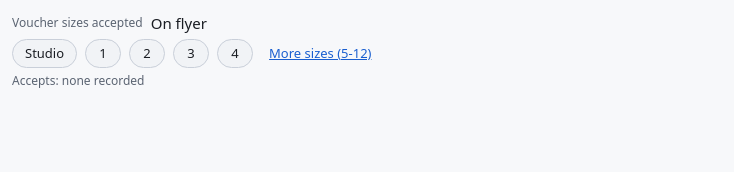
Test: VoucherSizePicker › a selected size of 5 or more keeps the larger chips open: no Fewer sizes until it is unselected
Click the button "More sizes (5-12)" at (320, 53), box [261,40,380,67]
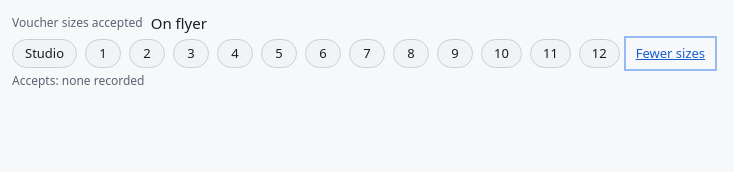
Click the button "6" at (323, 53), box [305,38,341,68]
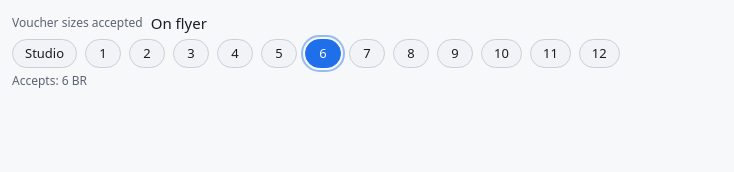
Result: the button "Fewer sizes" is gone
Click the button "6" at (323, 53), box [305,38,341,68]
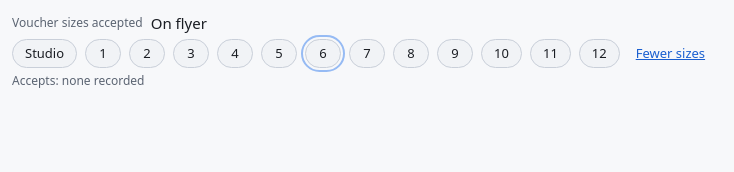
Result: the button "Fewer sizes" is shown at [628,40,713,67]
